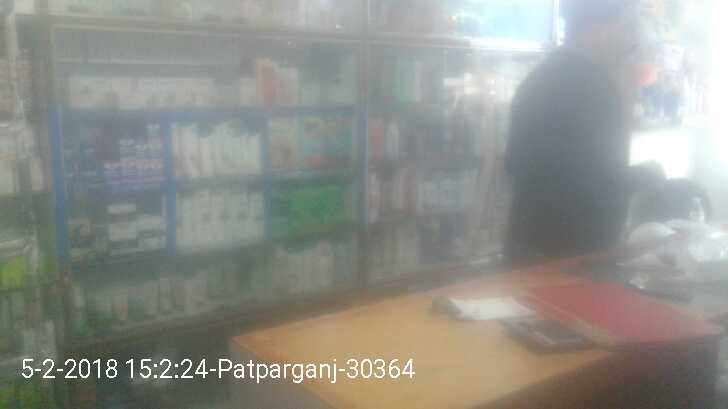vicks: (61, 125, 164, 195)
